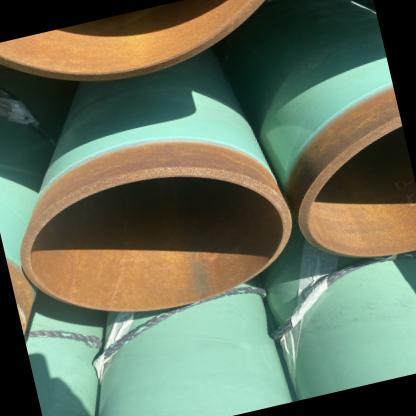clean: (102, 165, 156, 200)
